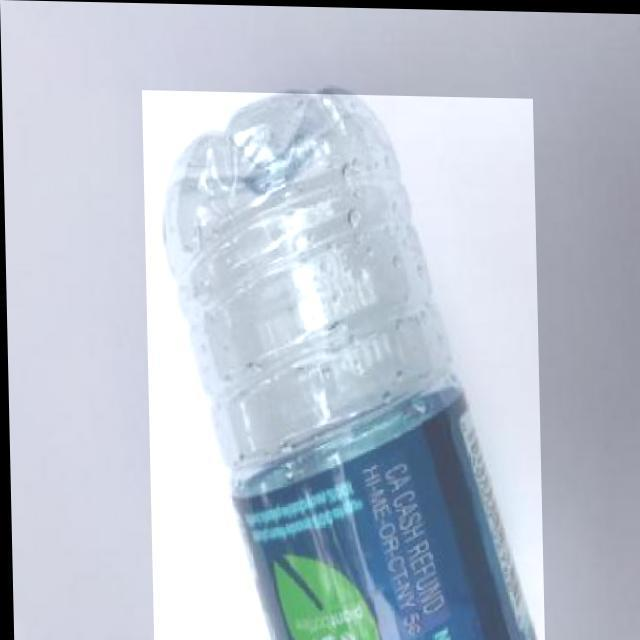good: (142, 89, 542, 640)
